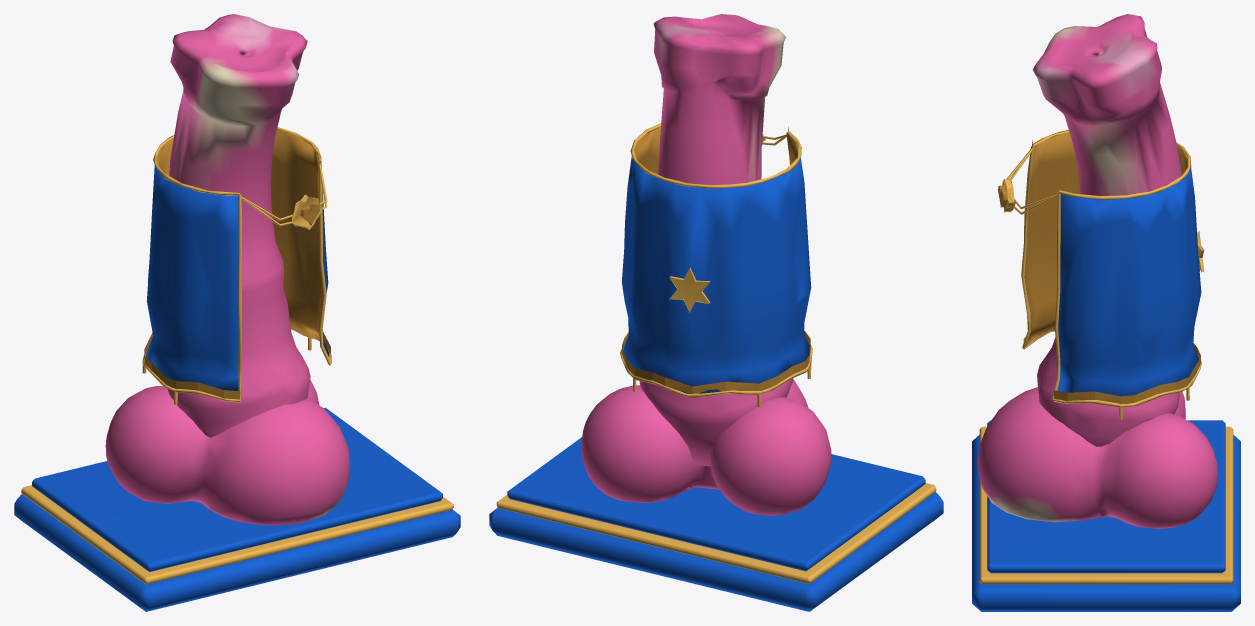
Rendered from chess.set.royal-capes.glb.
3 renders of one model, left to right at view 1: azimuth 30°, elevation 25°; view 2: azimuth 150°, elevation 25°; view 3: azimuth 270°, elevation 25°, orthographic.
Parts seen in each view (by area): view 1: knight, back_heraldry, stand_top, stand_base, stand_gold_band; view 2: knight, back_heraldry, stand_top, stand_base, stand_gold_band; view 3: knight, back_heraldry, stand_top, stand_base, stand_gold_band.
Boxes of the visible parts, x1=… form: knight: x1=105, y1=14, x2=349, y2=525; back_heraldry: x1=142, y1=127, x2=331, y2=404; stand_top: x1=32, y1=407, x2=442, y2=571; stand_base: x1=14, y1=494, x2=460, y2=611; stand_gold_band: x1=21, y1=485, x2=453, y2=584; knight: x1=581, y1=14, x2=831, y2=515; back_heraldry: x1=620, y1=123, x2=812, y2=406; stand_top: x1=507, y1=437, x2=925, y2=571; stand_base: x1=489, y1=492, x2=943, y2=611; stand_gold_band: x1=496, y1=483, x2=936, y2=583; knight: x1=978, y1=14, x2=1217, y2=528; back_heraldry: x1=998, y1=130, x2=1204, y2=419; stand_top: x1=987, y1=420, x2=1225, y2=573; stand_base: x1=972, y1=435, x2=1240, y2=611; stand_gold_band: x1=979, y1=426, x2=1233, y2=584.
Size of the model in its own units: 0.5111 by 0.75 by 0.3651.
